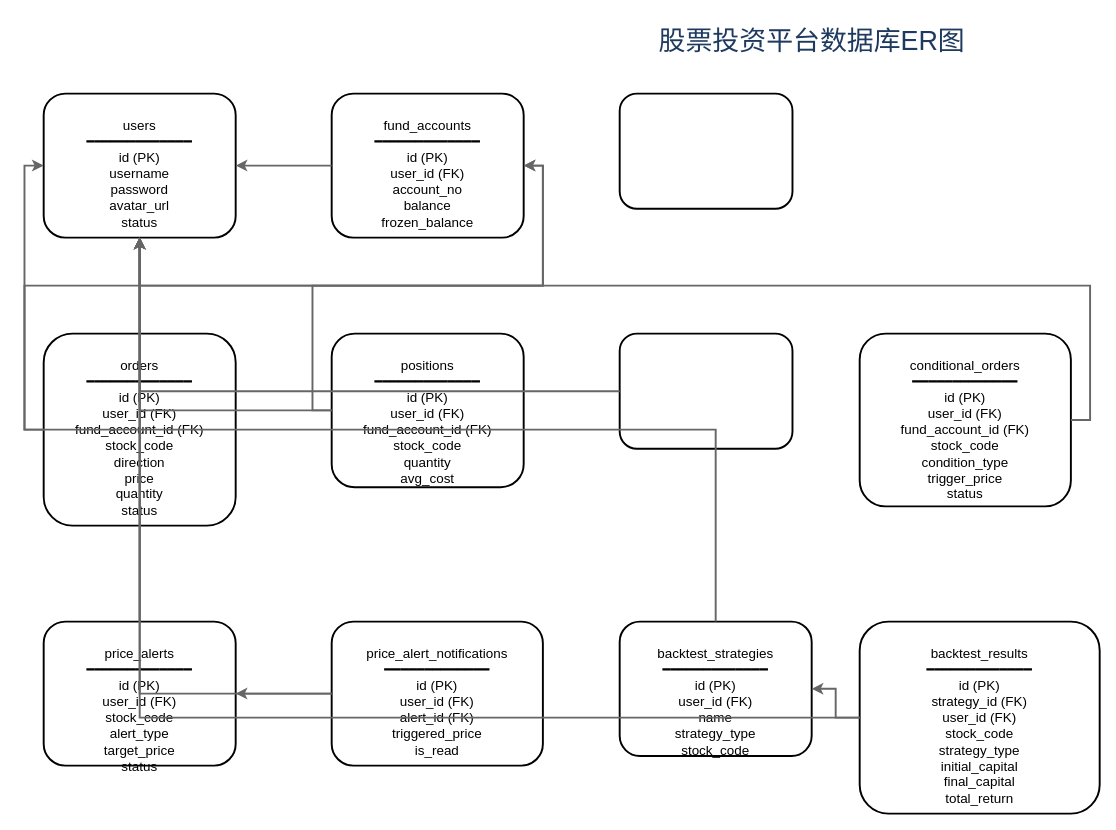
Image size: 1116x830. Some labels were removed from this diagram. Each missing label, with the centre of its shape:
stocks ━━━━━━━━━━━━━ id (PK) stock_code stock_name: point 705,150
watchlist ━━━━━━━━━━━━━ id (PK) user_id (FK) stock_code: point 705,390
